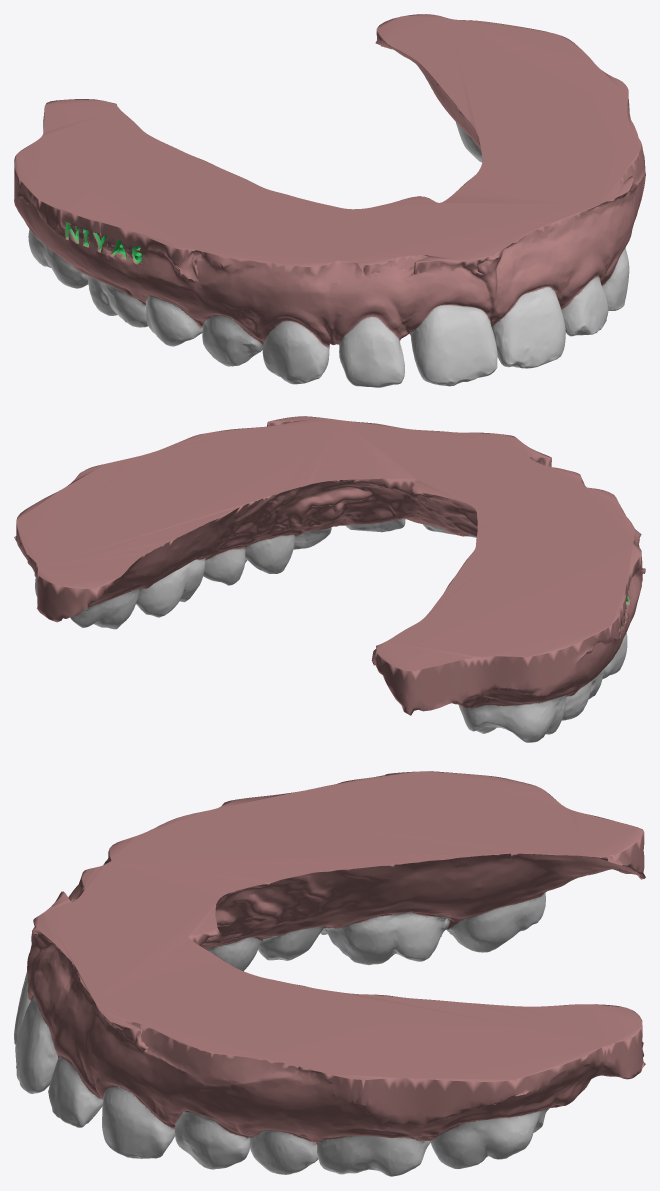
The model's file is Niya Priority Upper jaw - 06 - Model.glb.
The picture shows the model from 3 angles, top to bottom: view 1: azimuth 30°, elevation 25°; view 2: azimuth 150°, elevation 25°; view 3: azimuth 270°, elevation 25°; orthographic projection. The views are drawn at different scales.
Parts seen in each view (by area): view 1: Niya Priority Upper jaw - 06 - Model; view 2: Niya Priority Upper jaw - 06 - Model; view 3: Niya Priority Upper jaw - 06 - Model.
Boxes of the visible parts, box(x1,y1,x2,y2) form: Niya Priority Upper jaw - 06 - Model: box(14, 14, 645, 387); Niya Priority Upper jaw - 06 - Model: box(14, 416, 645, 742); Niya Priority Upper jaw - 06 - Model: box(14, 771, 645, 1176).
Bounding box in the file's own units: 66.35 × 13.71 × 57.
